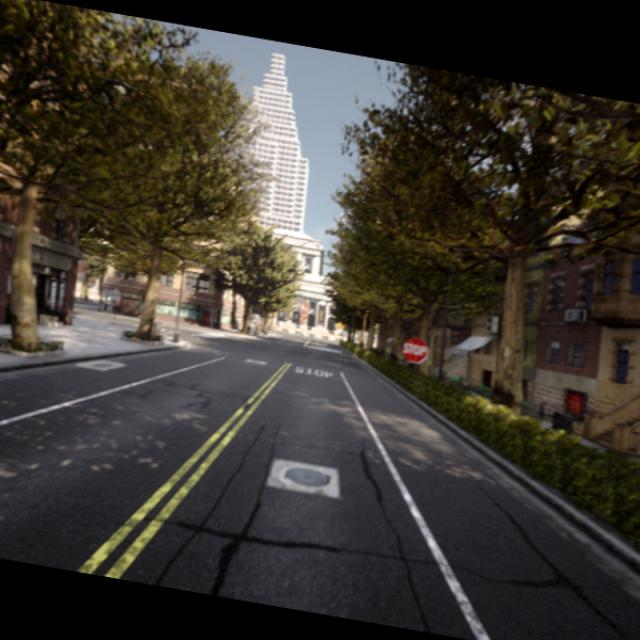stop sign: (399, 333, 430, 366)
